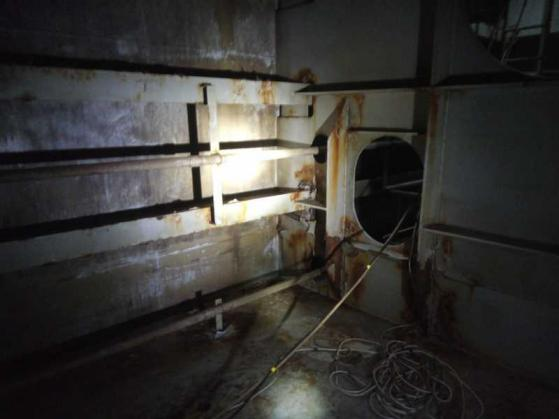corrosion: (321, 240, 369, 298), (326, 121, 351, 202), (283, 217, 316, 272), (166, 201, 206, 240), (421, 90, 443, 151), (433, 231, 464, 271), (243, 76, 280, 109), (281, 167, 323, 192), (349, 86, 374, 124), (334, 211, 363, 239), (290, 66, 321, 88)
